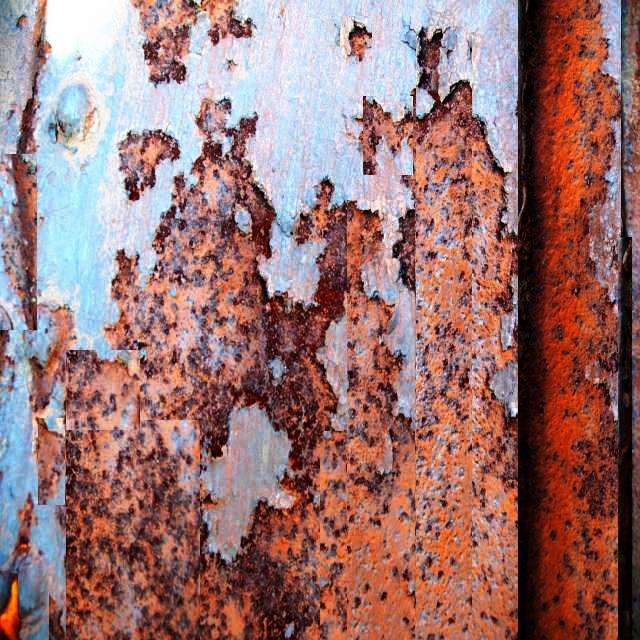Corrosion: (521, 0, 623, 640), (404, 82, 517, 640), (303, 204, 416, 640), (128, 444, 320, 640), (107, 251, 267, 456), (67, 421, 201, 640), (257, 240, 345, 468), (146, 141, 274, 291), (132, 0, 252, 82), (65, 351, 139, 432), (31, 305, 75, 434), (17, 6, 49, 156), (118, 129, 179, 200), (360, 97, 414, 176), (196, 99, 257, 160), (119, 130, 172, 200), (2, 495, 36, 574), (36, 419, 64, 506), (22, 160, 36, 330), (418, 29, 444, 103), (341, 15, 373, 60), (1, 155, 36, 191), (0, 305, 12, 376), (48, 596, 65, 640)
